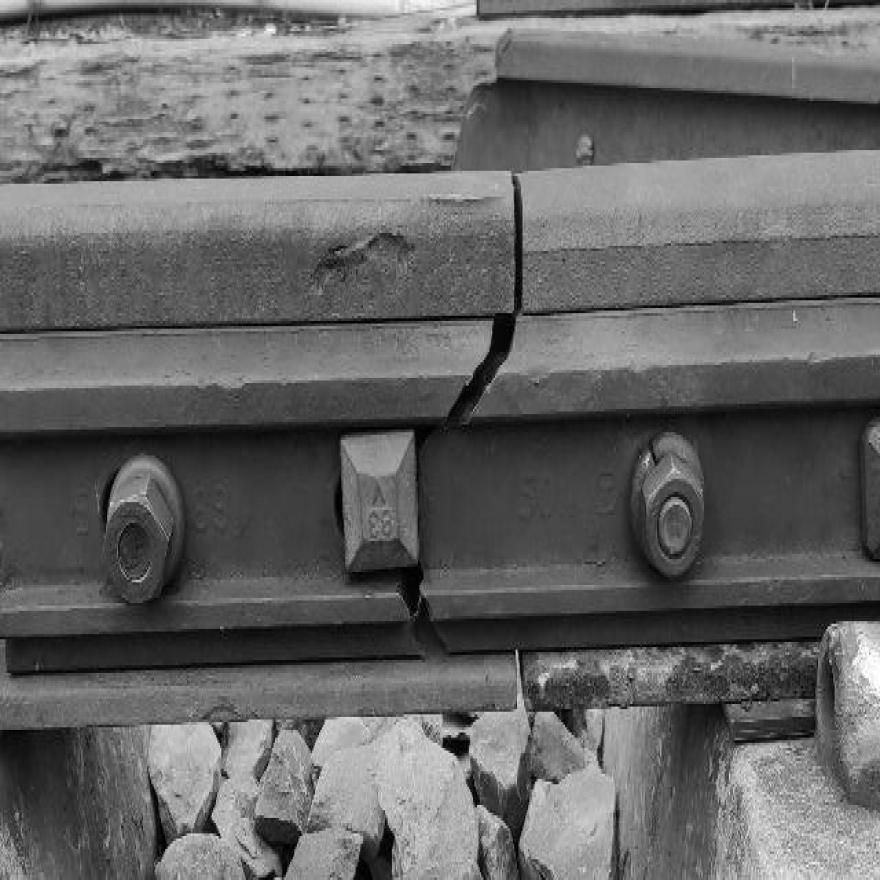railway-gap: (462, 144, 579, 338), (476, 617, 565, 747)
